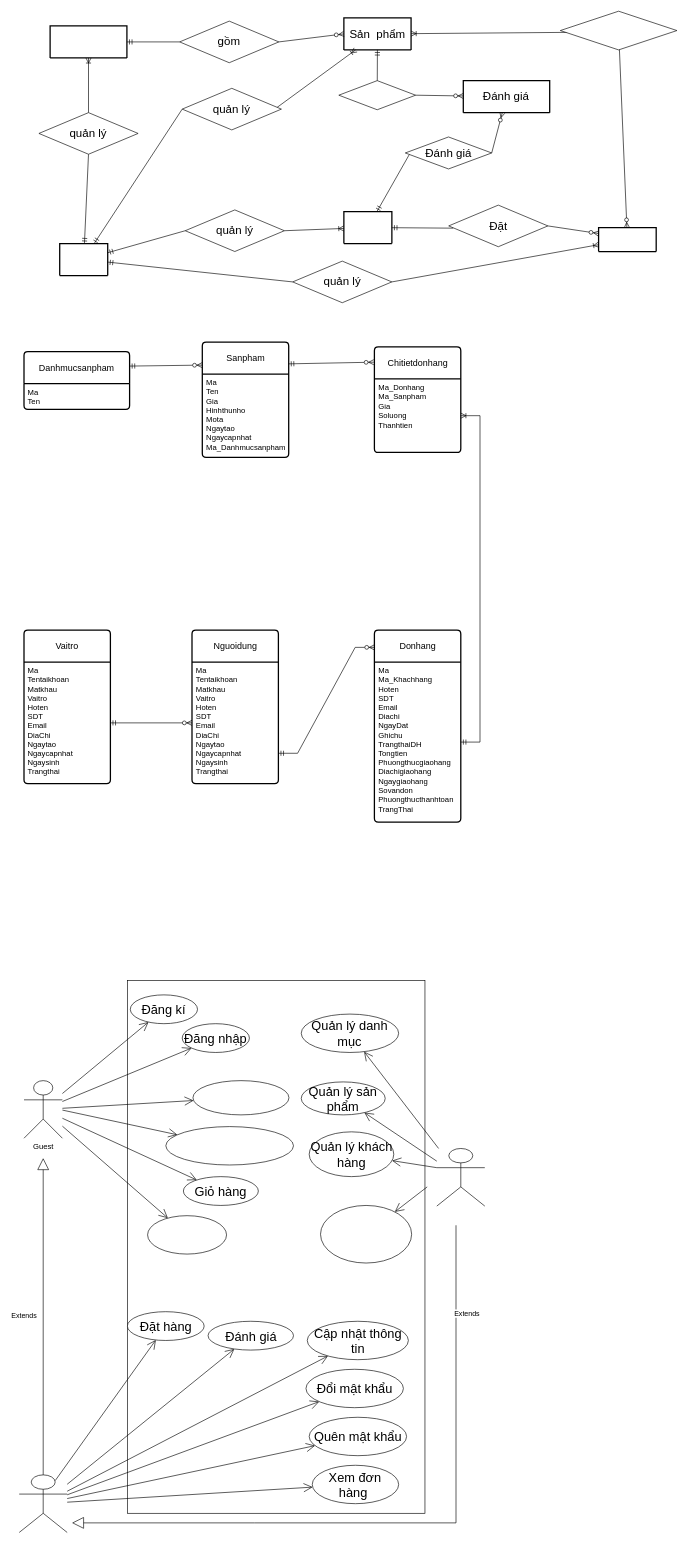
This 688x1557 diagram has some shape labels left out. Here are the shapes that lost their labels. From the top down, the centre of each, then its label:
At pixel 88 41: "Danh mục sản phẩm".
At pixel 618 30: "Có chi tiết đơn hàng".
At pixel 377 95: "có".
At pixel 367 227: "Khách hàng".
At pixel 627 239: "Đơn hàng".
At pixel 83 259: "Quản trị viên".
At pixel 240 1097: "Tìm kiếm sản phẩn".
At pixel 229 1145: "Xem chi tiết sản phẩm".
At pixel 460 1177: "ADMIN".
At pixel 187 1234: "Sản phẩm yêu thích".
At pixel 366 1234: "Quản lý đơn hàng".
At pixel 43 1503: "USER".
